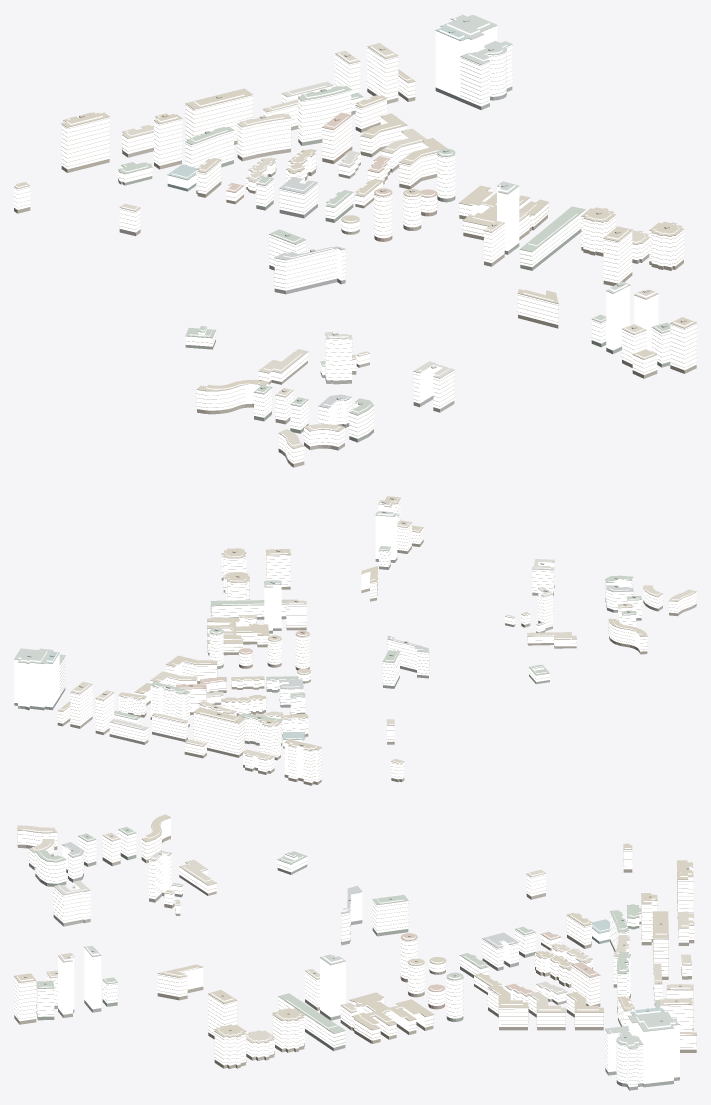
File: buildings--1_1-fine.glb
3 renders of one model, top to bottom at view 1: azimuth 30°, elevation 25°; view 2: azimuth 150°, elevation 25°; view 3: azimuth 270°, elevation 25°, orthographic. The views are drawn at different scales.
Parts seen in each view (by area): view 1: block_-1_1_residential, block_-1_1_roof, block_-1_1_darkglass, block_-1_1_concrete, block_-1_1_office; view 2: block_-1_1_residential, block_-1_1_roof, block_-1_1_office, block_-1_1_concrete, block_-1_1_darkglass; view 3: block_-1_1_residential, block_-1_1_roof, block_-1_1_office, block_-1_1_darkglass, block_-1_1_concrete.
Boxes of the visible parts, <box> form: block_-1_1_residential: <box>14,45,696,463</box>; block_-1_1_roof: <box>14,14,696,460</box>; block_-1_1_darkglass: <box>14,86,696,467</box>; block_-1_1_concrete: <box>14,44,696,461</box>; block_-1_1_office: <box>167,18,658,351</box>; block_-1_1_residential: <box>57,497,696,782</box>; block_-1_1_roof: <box>14,496,696,780</box>; block_-1_1_office: <box>14,501,397,746</box>; block_-1_1_concrete: <box>58,498,696,780</box>; block_-1_1_darkglass: <box>14,539,696,785</box>; block_-1_1_residential: <box>14,818,696,1087</box>; block_-1_1_roof: <box>14,814,696,1086</box>; block_-1_1_office: <box>58,925,679,1083</box>; block_-1_1_darkglass: <box>14,835,696,1090</box>; block_-1_1_concrete: <box>14,817,696,1084</box>.
Bounding box in the file's own units: 566 × 60.46 × 640.
